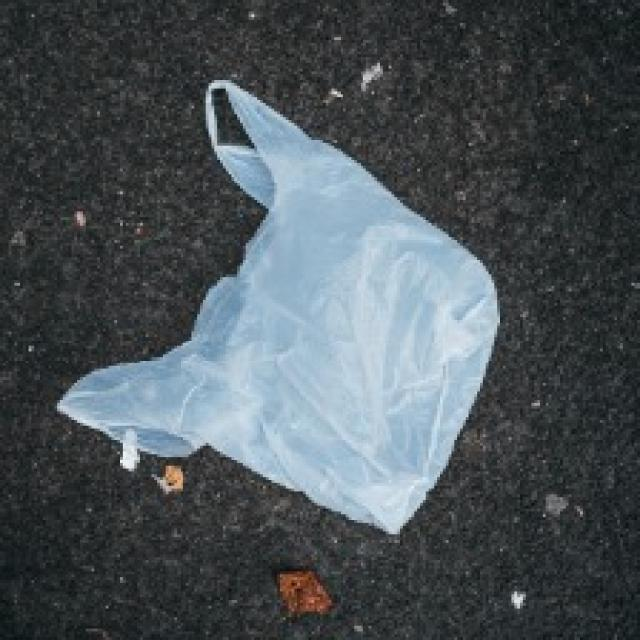plastic_bag: (93, 77, 531, 535)
